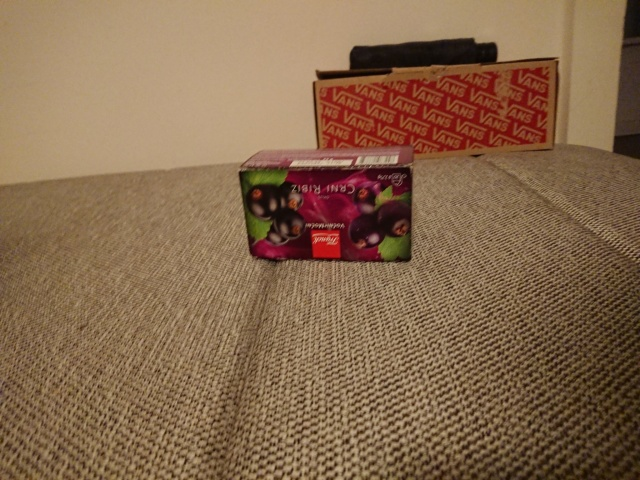Franck Black Currant Tea 60g: (235, 142, 417, 266)
